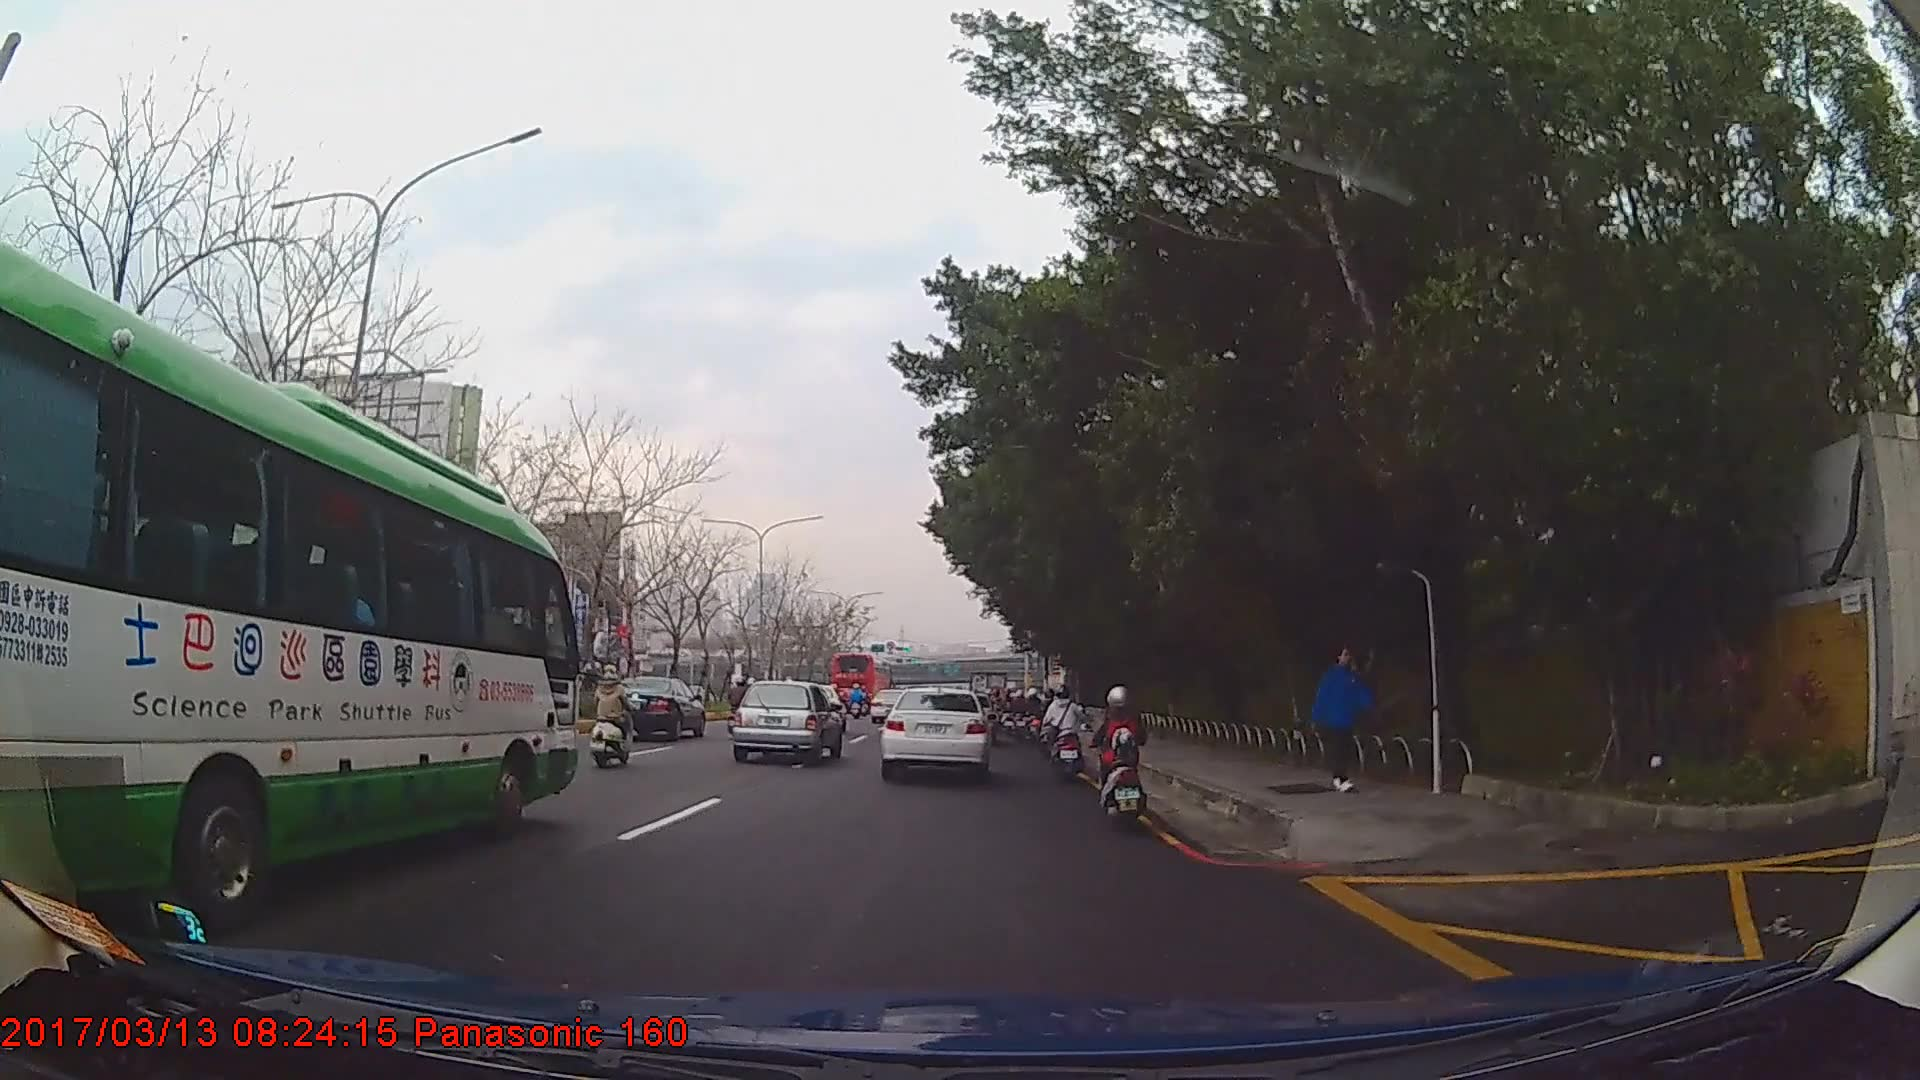pedestrian: (1312, 645, 1377, 792)
rider: (1092, 684, 1147, 833), (590, 666, 636, 769), (1041, 686, 1085, 781), (1037, 688, 1058, 753), (730, 677, 753, 729)
vehicle: (0, 247, 579, 935), (880, 686, 991, 782), (730, 677, 842, 763), (605, 674, 704, 744), (829, 650, 897, 712)
